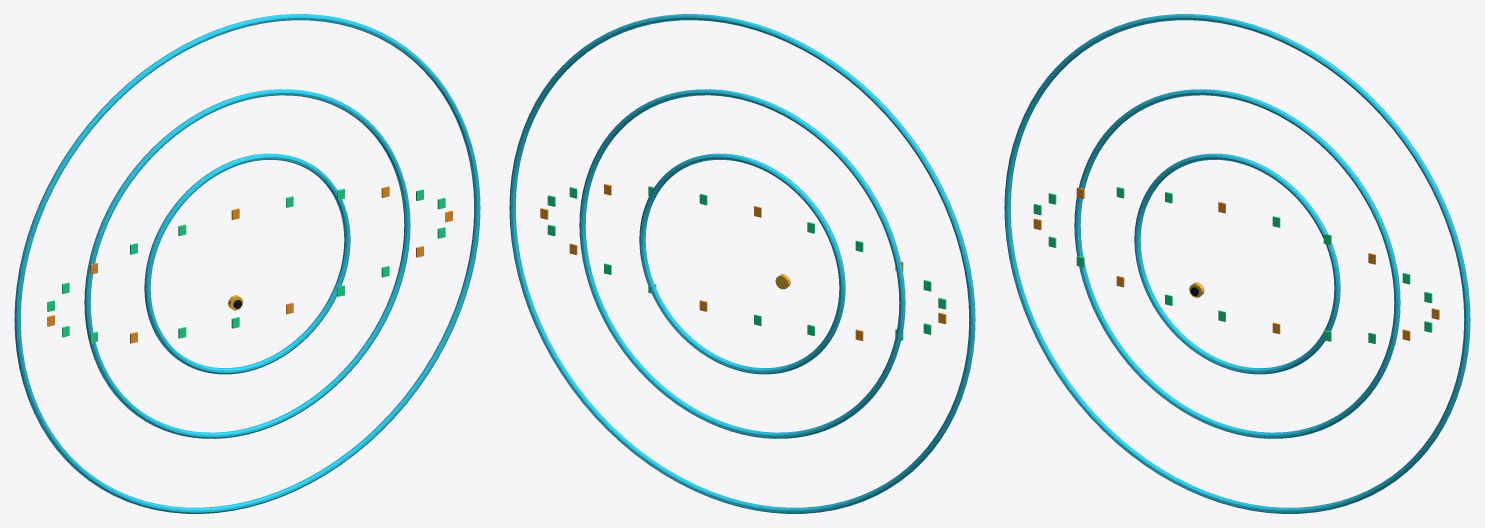
The model's file is 14_L85_RelativeOrbitTrajectoryHologram.fbx.
The picture shows the model from 3 angles, left to right: view 1: azimuth 30°, elevation 25°; view 2: azimuth 150°, elevation 25°; view 3: azimuth 330°, elevation 25°; orthographic projection.
Visible parts, largest first — view 1: L85_RelativeOrbitTrajectoryHologram_Part_0000, L85_RelativeOrbitTrajectoryHologram_Part_0002, L85_RelativeOrbitTrajectoryHologram_Part_0001; view 2: L85_RelativeOrbitTrajectoryHologram_Part_0000, L85_RelativeOrbitTrajectoryHologram_Part_0002, L85_RelativeOrbitTrajectoryHologram_Part_0001; view 3: L85_RelativeOrbitTrajectoryHologram_Part_0000, L85_RelativeOrbitTrajectoryHologram_Part_0002, L85_RelativeOrbitTrajectoryHologram_Part_0001.
Part boxes in pixels (x1,y1,x2,y2): L85_RelativeOrbitTrajectoryHologram_Part_0000: [14, 14, 480, 513]; L85_RelativeOrbitTrajectoryHologram_Part_0002: [47, 189, 445, 343]; L85_RelativeOrbitTrajectoryHologram_Part_0001: [47, 186, 452, 343]; L85_RelativeOrbitTrajectoryHologram_Part_0000: [509, 14, 975, 513]; L85_RelativeOrbitTrajectoryHologram_Part_0002: [547, 186, 946, 340]; L85_RelativeOrbitTrajectoryHologram_Part_0001: [540, 184, 946, 340]; L85_RelativeOrbitTrajectoryHologram_Part_0000: [1004, 14, 1470, 513]; L85_RelativeOrbitTrajectoryHologram_Part_0002: [1033, 187, 1432, 343]; L85_RelativeOrbitTrajectoryHologram_Part_0001: [1033, 187, 1439, 340].
Bounding box in the file's own units: 466 × 466 × 31.96.
